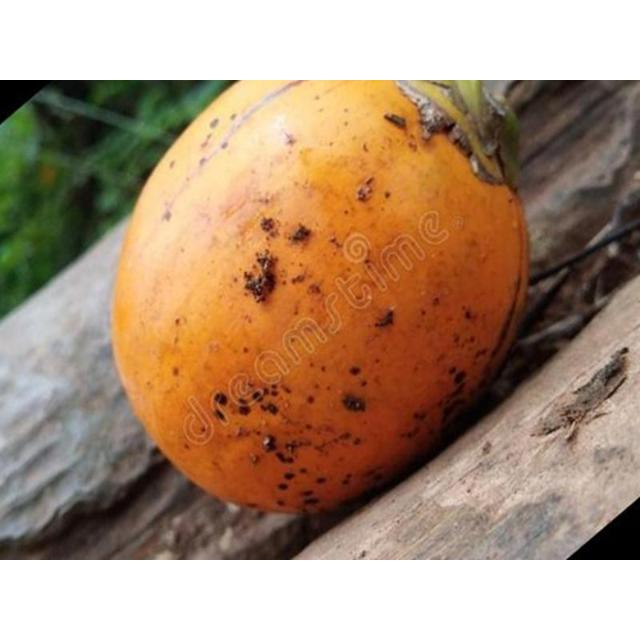good: (110, 80, 530, 522)
